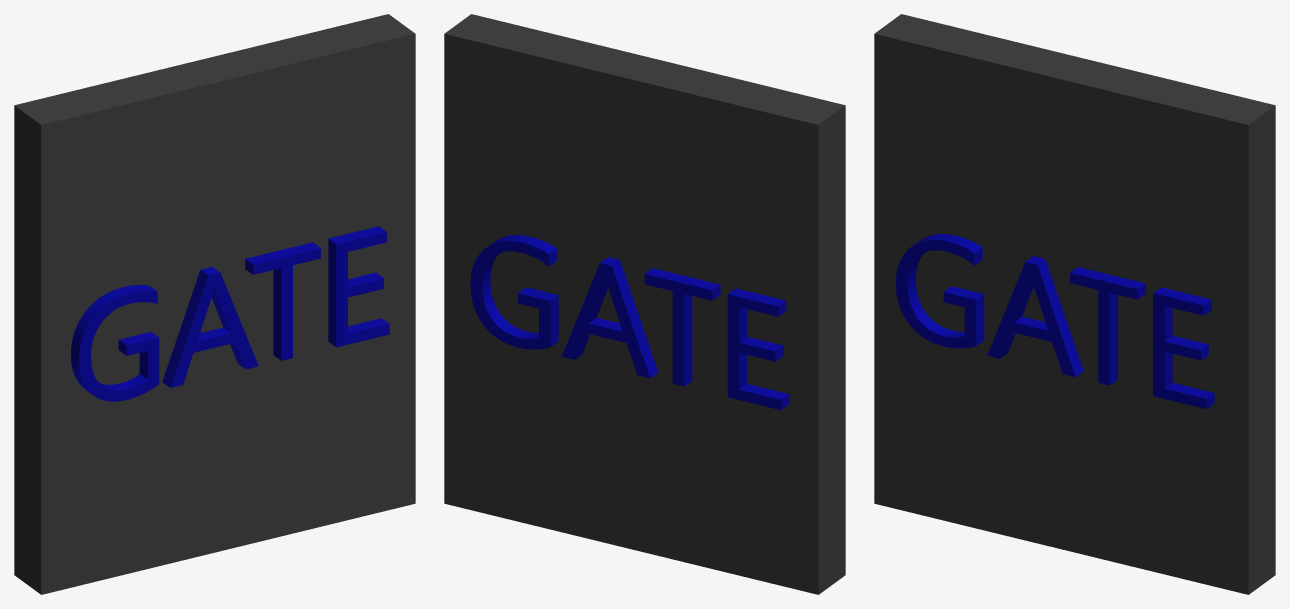
The model's file is propWallGate.fbx.
3 views of the same model, side by side, from view 1: azimuth 30°, elevation 25°; view 2: azimuth 150°, elevation 25°; view 3: azimuth 330°, elevation 25° (orthographic).
Parts seen in each view (by area): view 1: propWallGate; view 2: propWallGate; view 3: propWallGate.
Part boxes in pixels (<box>): propWallGate: <box>14,14,415,594</box>; propWallGate: <box>444,14,845,594</box>; propWallGate: <box>874,14,1275,594</box>.
Bounding box in the file's own units: 2 × 2.4 × 0.4.
